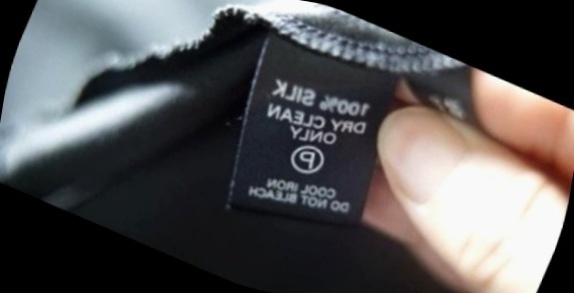dry_clean_any_solvent_except_trichloroethylene: (280, 133, 333, 184)
